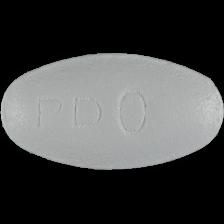49999-467: (0, 0, 224, 224)
